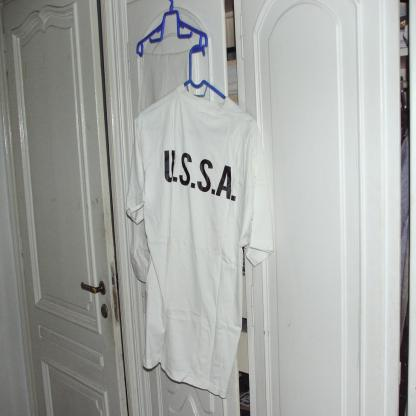door: (23, 0, 107, 415)
hinged: (1, 30, 9, 54), (19, 234, 26, 258)
lever: (80, 280, 108, 297)
